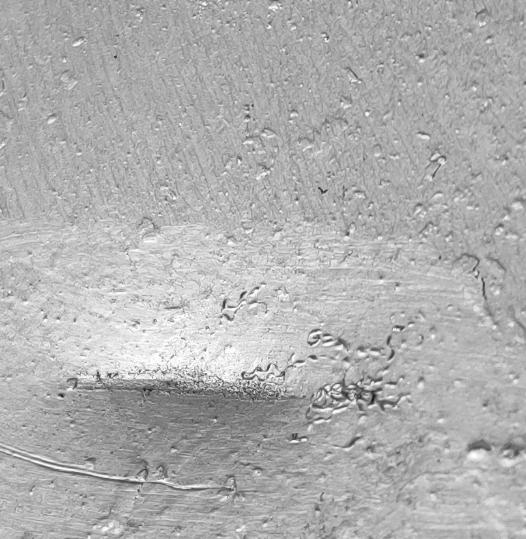dent: (1, 0, 526, 539)
